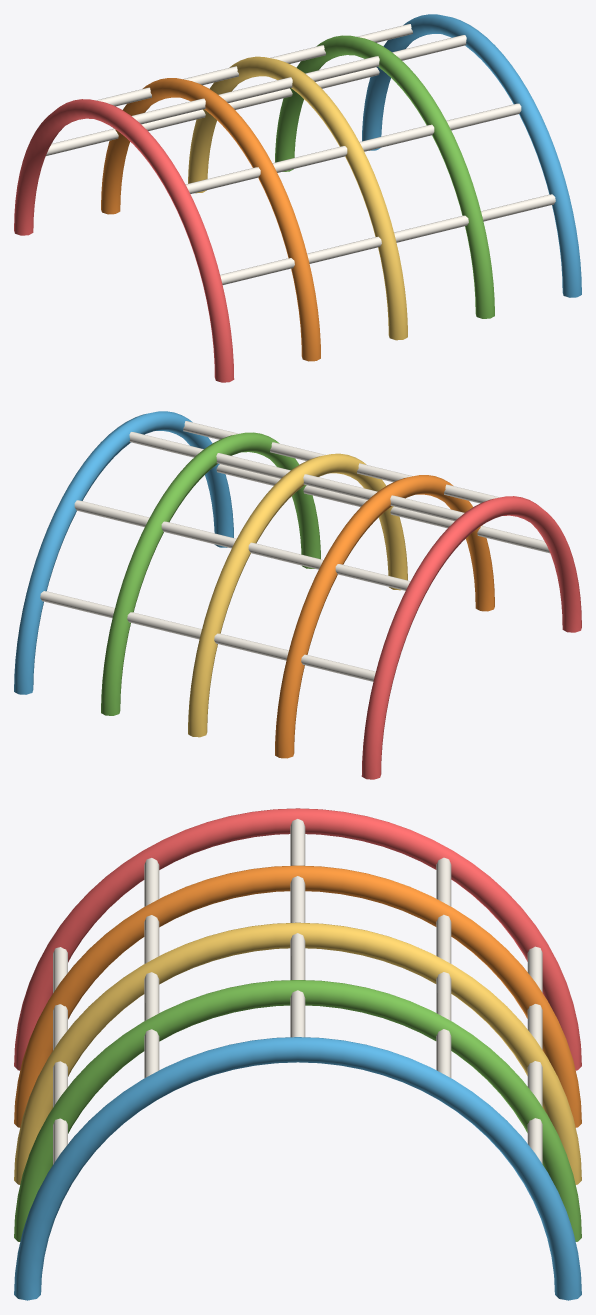
The model's file is kplayset-tunnel.glb.
3 renders of one model, top to bottom at view 1: azimuth 30°, elevation 25°; view 2: azimuth 150°, elevation 25°; view 3: azimuth 270°, elevation 25°, orthographic. The views are drawn at different scales.
Bounding box in the file's own units: 1.89 × 0.945 × 1.89.
